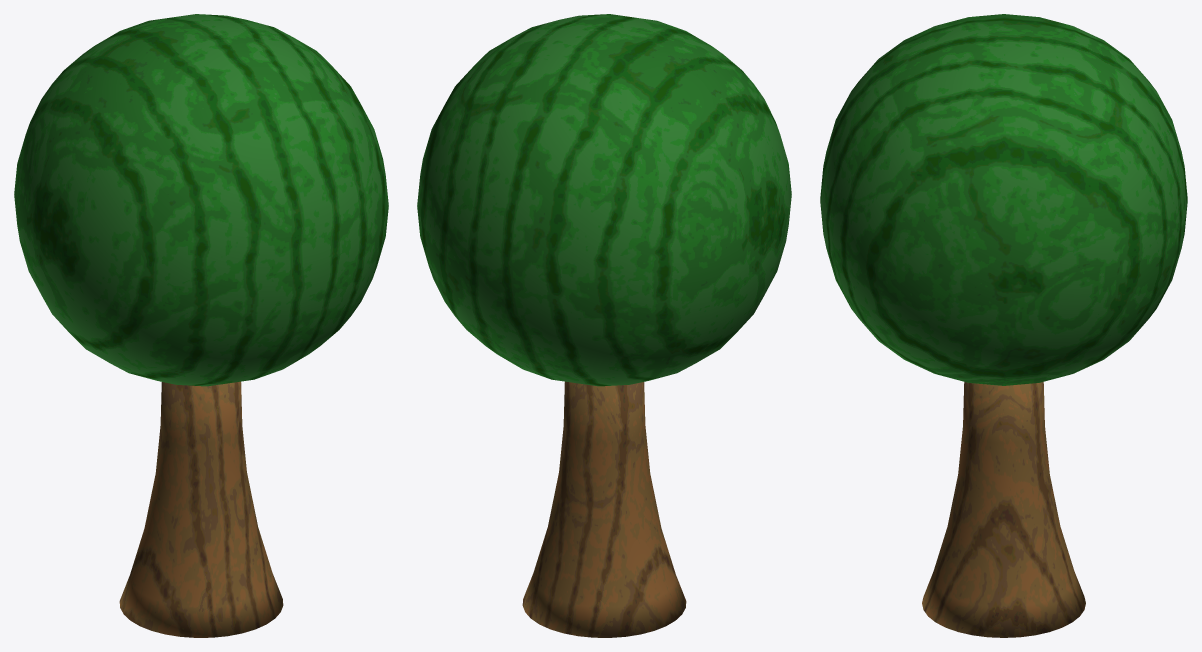
The model's file is tree2Posterized.glb.
The picture shows the model from 3 angles, left to right: view 1: azimuth 30°, elevation 25°; view 2: azimuth 150°, elevation 25°; view 3: azimuth 270°, elevation 25°; orthographic projection.
Parts seen in each view (by area): view 1: WoodTree2, WoodTree2_bark; view 2: WoodTree2, WoodTree2_bark; view 3: WoodTree2, WoodTree2_bark.
Part boxes in pixels (x1,y1,x2,y2): WoodTree2: (14, 14, 388, 386); WoodTree2_bark: (119, 381, 283, 637); WoodTree2: (417, 14, 791, 386); WoodTree2_bark: (522, 381, 686, 637); WoodTree2: (820, 14, 1187, 385); WoodTree2_bark: (922, 382, 1085, 637).
Bounding box in the file's own units: 3.76 × 6.43 × 3.76.
Materials: 2 (2 with a texture image).
